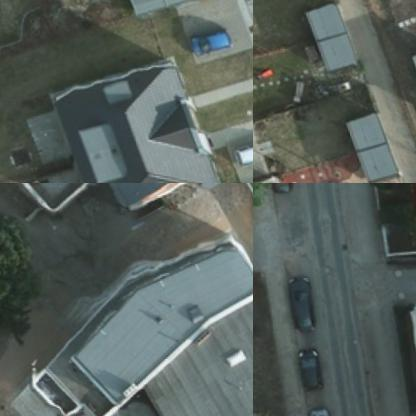car: (188, 21, 233, 56), (290, 277, 316, 328), (293, 344, 323, 387), (228, 130, 252, 166), (263, 183, 295, 196), (304, 405, 333, 415)
